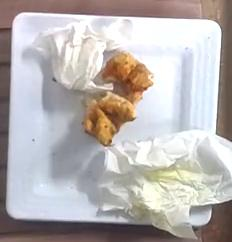pizza_crust: (95, 51, 154, 104), (83, 91, 135, 145)
